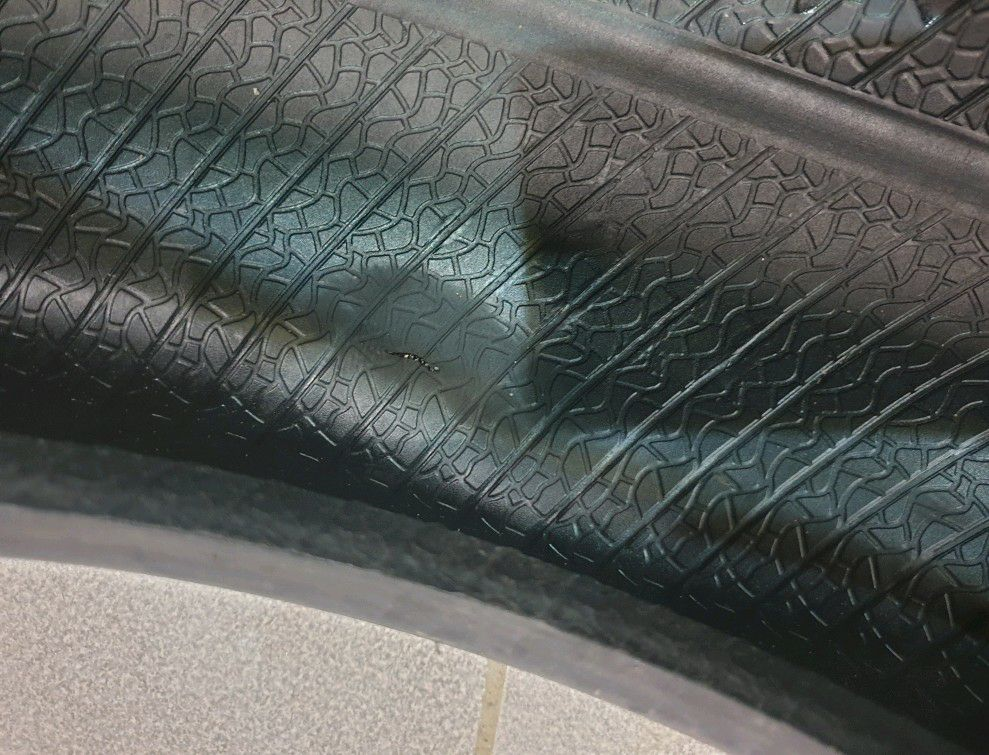CBU: (373, 336, 462, 392)
